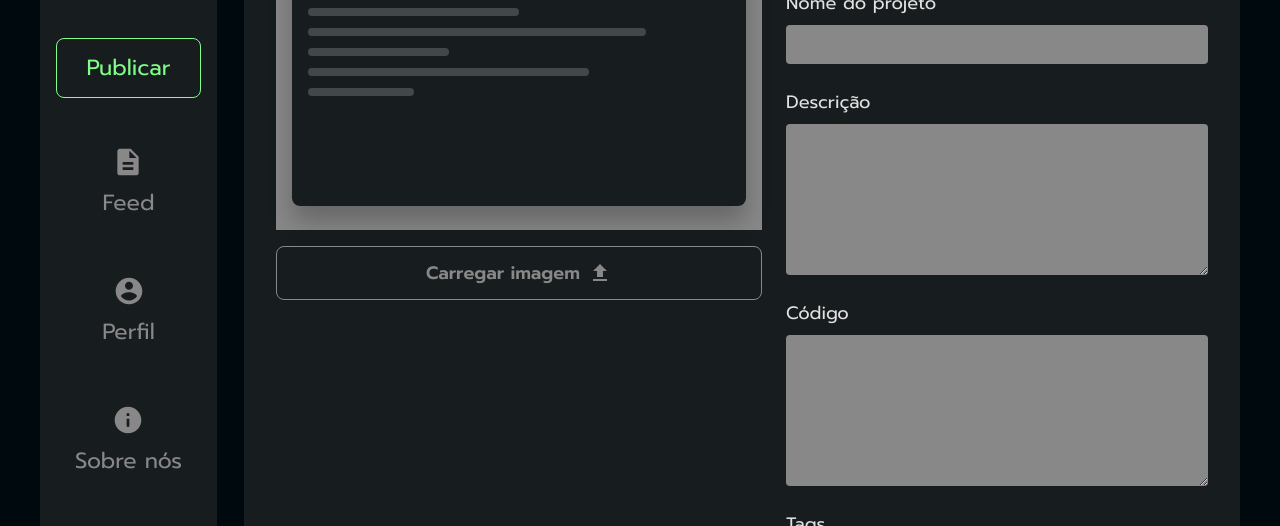
it: NewPostPage › shows the error and lets the user try again
Type "React zero to hero" into the field labelled "Nome do projeto".
click(997, 44); type("React zero to hero")  # box [786,25,1208,64]
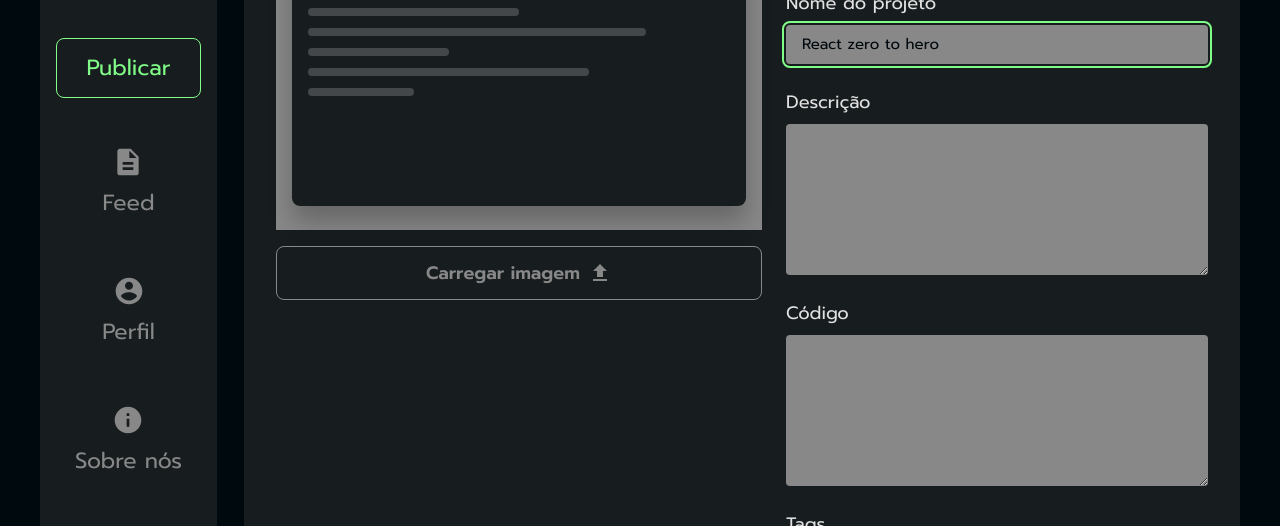
Type "Um projeto" into the text box labelled "Descrição".
click(997, 199); type("Um projeto")  # box [786,124,1208,274]
(page scrolled)
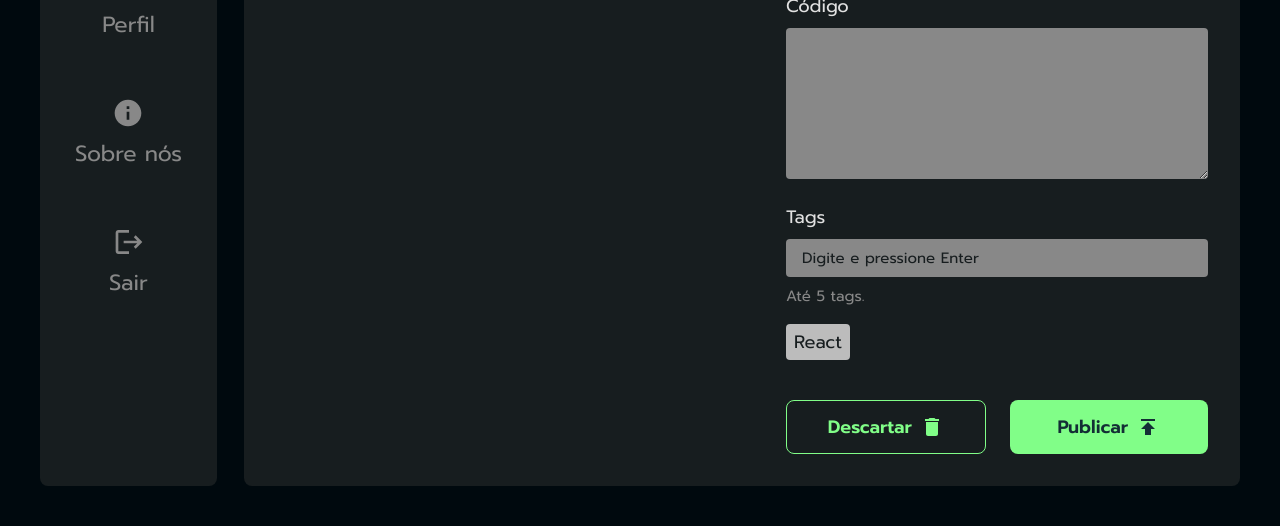
Click the button "Publicar".
click(1109, 426)  # box [1010,400,1208,454]
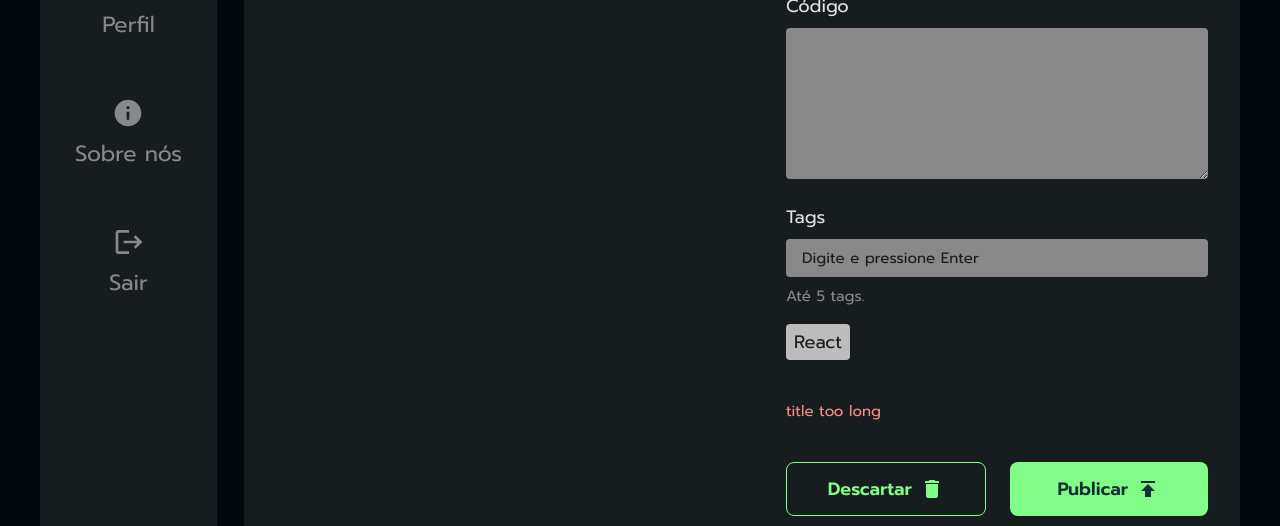
Expected: the button "Publicar" is enabled, [1010,462,1208,516]
Now the text "title too long" is shown, box [786,400,881,422]
